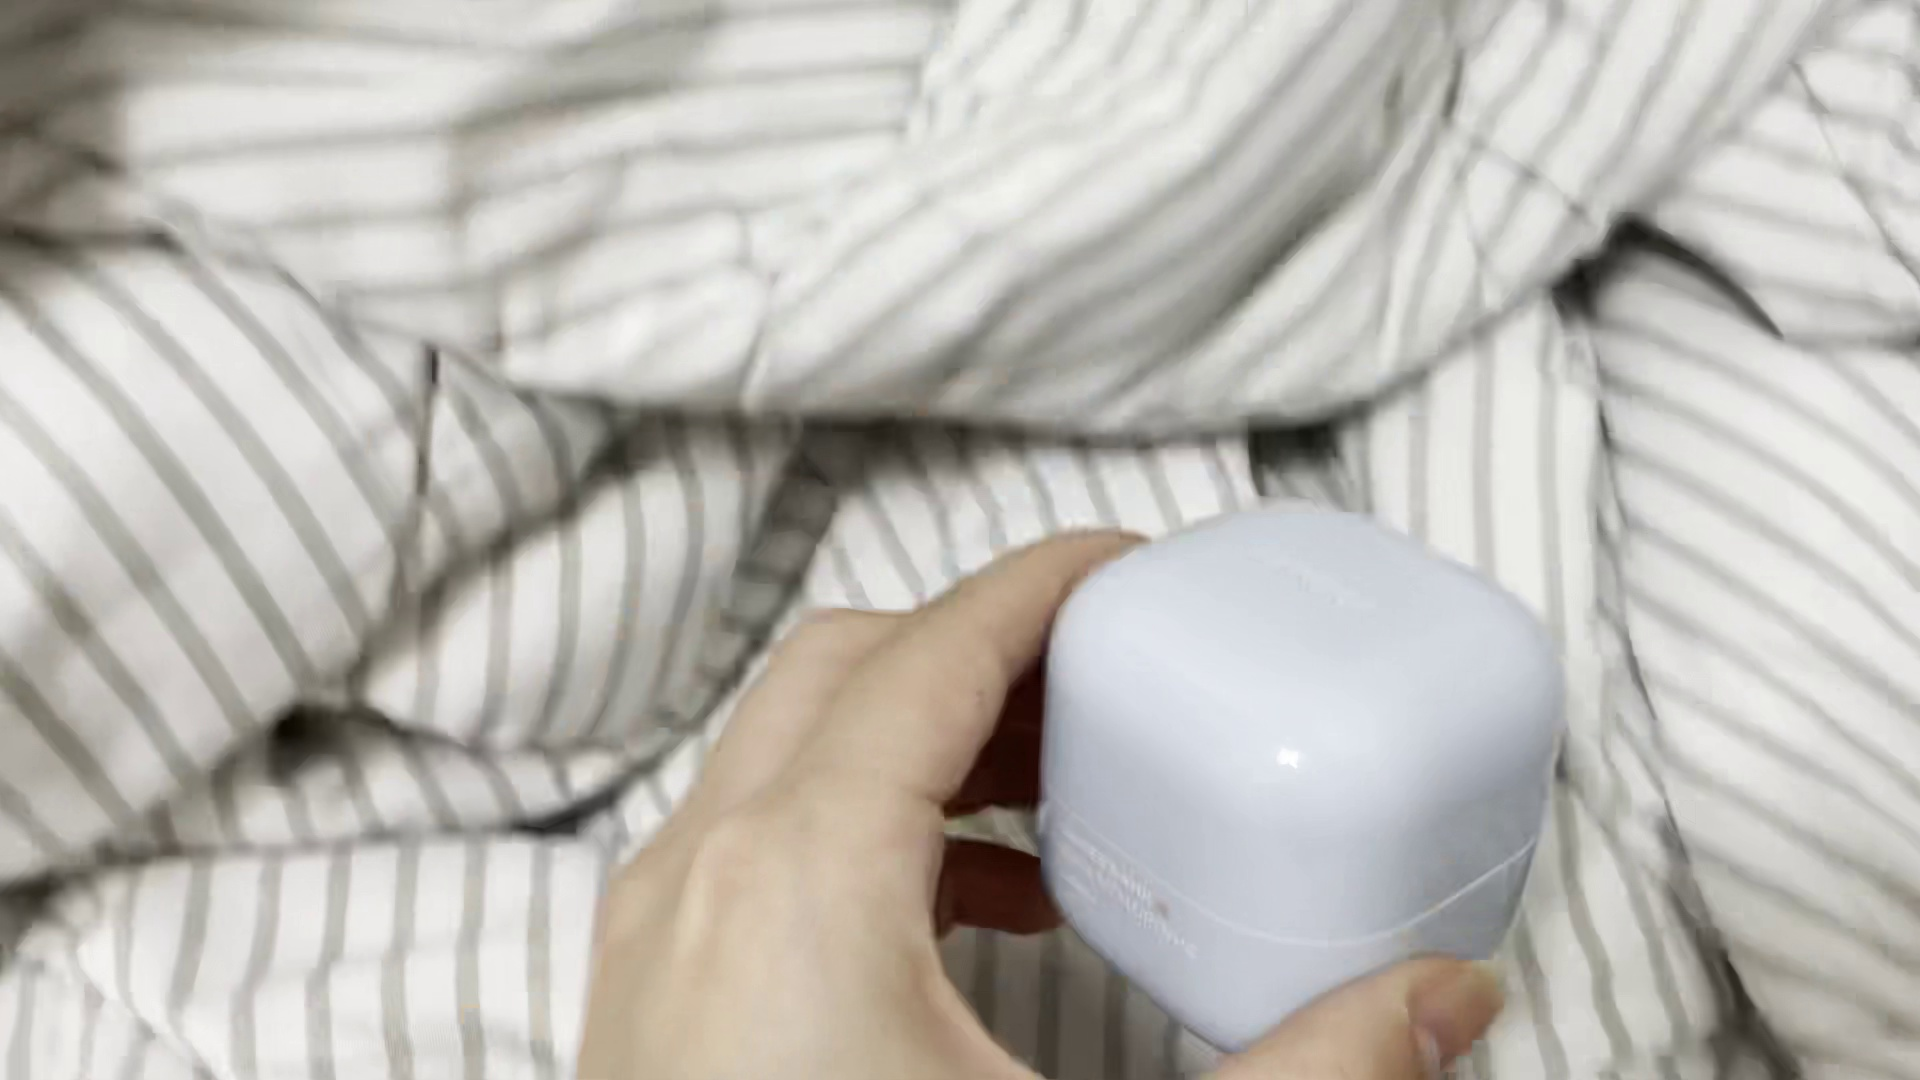cream: (1042, 506, 1567, 1056)
